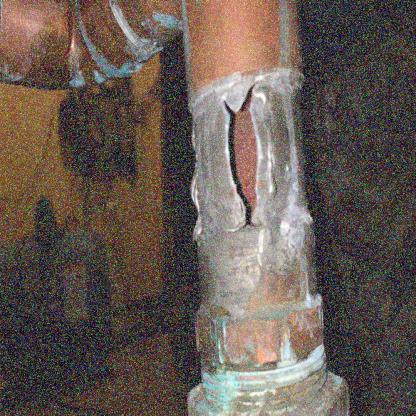burst: (216, 80, 267, 231)
